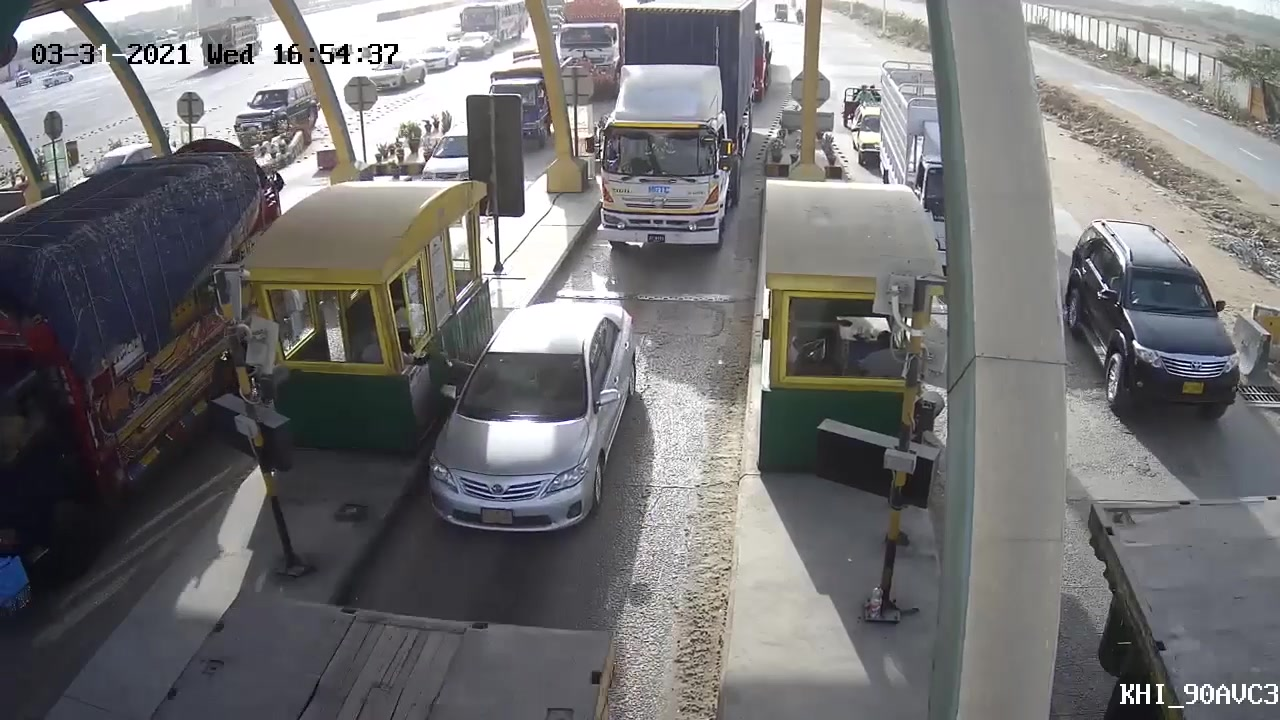F1: (422, 280, 642, 543)
